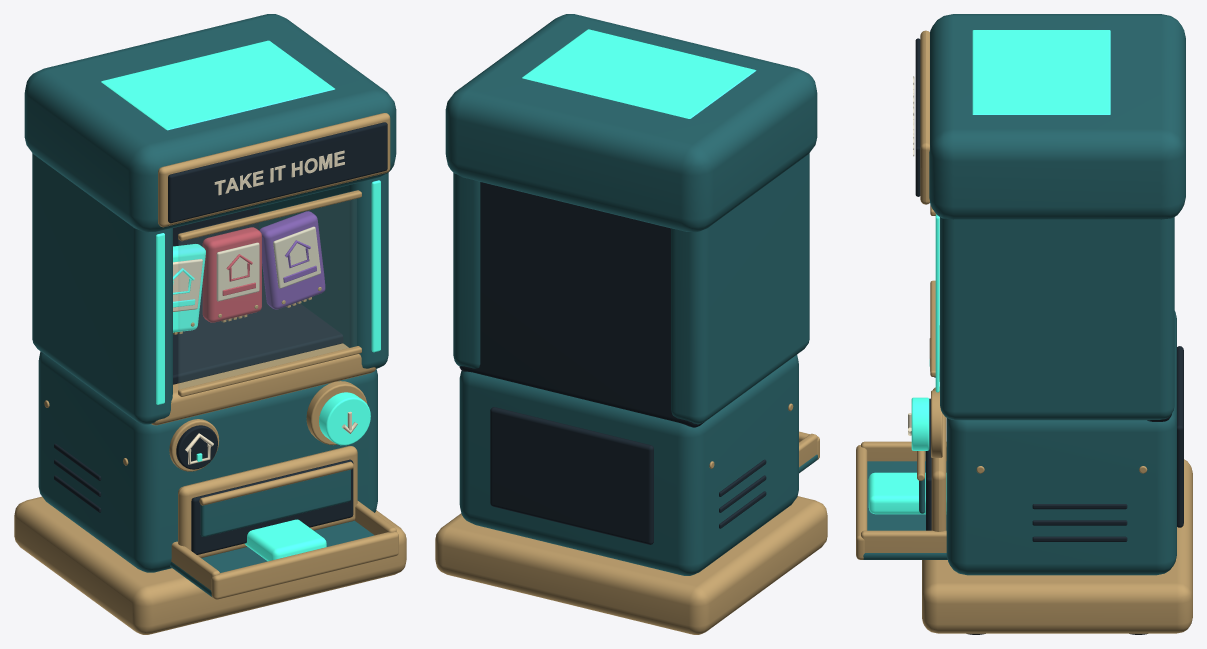
The model's file is take-home-dispenser.glb.
The picture shows the model from 3 angles, left to right: view 1: azimuth 30°, elevation 25°; view 2: azimuth 150°, elevation 25°; view 3: azimuth 270°, elevation 25°; orthographic projection. The views are drawn at different scales.
Visible parts, largest first — view 1: Marquee crown, Lower service cabinet, Display window, Rounded display pillar, Brass plinth, Crown highlight, Rounded display pillar.001, Marquee inset, Display velvet shelf, Display sill, Tray front lip, Delivery flap (+24 smaller); view 2: Marquee crown, Display rear, Lower service cabinet, Rounded display pillar, Brass plinth, Back service plate, Crown highlight, Rounded display pillar.001; view 3: Rounded display pillar.001, Marquee crown, Lower service cabinet, Brass plinth, Crown highlight, Catch tray, Cartridge rounded shell.003, Tray cheek.001, Marquee gold bezel, Delivery brass surround, Back service plate, Tray front lip (+10 smaller).
Part boxes in pixels (x1,y1,x2,y2): Marquee crown: (24,14,396,232); Lower service cabinet: (38,351,377,572); Display window: (179,199,356,388); Rounded display pillar: (32,153,172,424); Brass plinth: (14,496,406,634); Crown highlight: (101,40,334,130); Rounded display pillar.001: (259,173,388,368); Marquee inset: (168,122,387,223); Display velvet shelf: (173,276,343,384); Display sill: (151,343,376,425); Tray front lip: (211,532,398,599); Delivery flap: (200,469,350,536); Marquee crown: (445,14,817,232); Display rear: (459,182,704,427); Lower service cabinet: (459,355,798,575); Rounded display pillar: (671,153,809,424); Brass plinth: (435,496,827,634); Back service plate: (490,407,653,544); Crown highlight: (522,29,756,118); Rounded display pillar.001: (453,173,480,368); Rounded display pillar.001: (940,217,1174,420); Marquee crown: (929,14,1185,219); Lower service cabinet: (946,311,1176,575); Brass plinth: (922,459,1192,633); Crown highlight: (972,30,1110,114); Catch tray: (863,461,947,559); Cartridge rounded shell.003: (868,472,946,514); Tray cheek.001: (861,530,946,552); Marquee gold bezel: (920,30,929,204); Delivery brass surround: (931,387,946,531); Back service plate: (1177,346,1183,527); Tray front lip: (856,445,867,559).
Size of the model in its own units: 0.72 by 1.24 by 0.7455.
